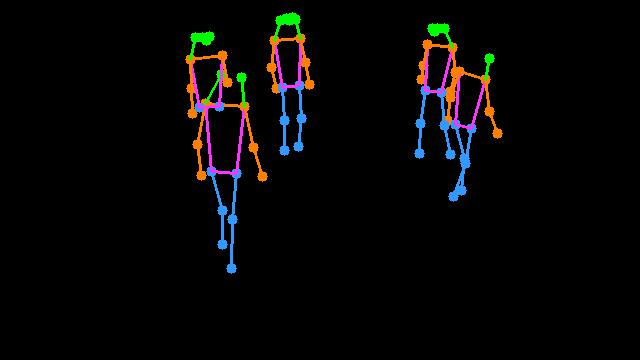normal: (183, 65, 273, 287), (435, 35, 499, 208), (266, 6, 317, 173), (405, 15, 456, 168)
